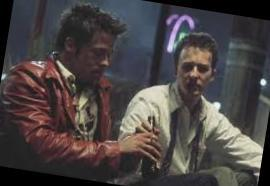Drunk: (75, 24, 114, 85), (177, 44, 212, 98)
